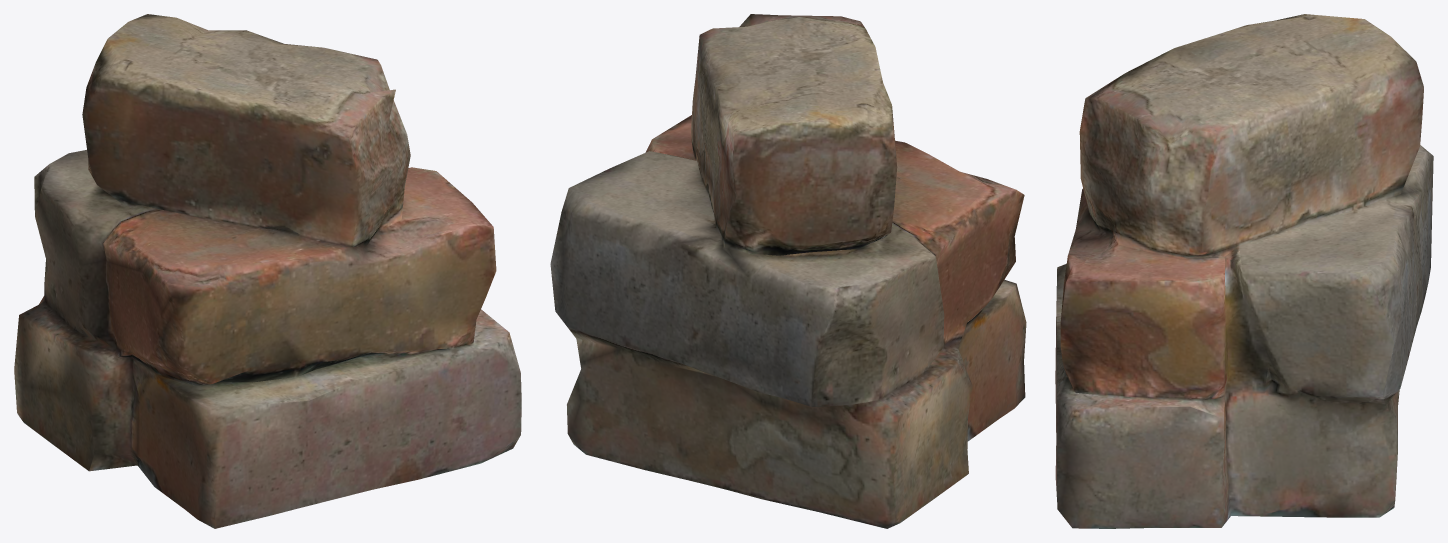
The model's file is SM_Brick_01_01.fbx.
The picture shows the model from 3 angles, left to right: view 1: azimuth 30°, elevation 25°; view 2: azimuth 150°, elevation 25°; view 3: azimuth 270°, elevation 25°; orthographic projection. The views are drawn at different scales.
Parts seen in each view (by area): view 1: sm_Brick_01_01_LOD0; view 2: sm_Brick_01_01_LOD0; view 3: sm_Brick_01_01_LOD0.
Part boxes in pixels (x1,y1,x2,y2): sm_Brick_01_01_LOD0: (14, 14, 521, 528); sm_Brick_01_01_LOD0: (550, 14, 1026, 528); sm_Brick_01_01_LOD0: (1055, 14, 1433, 528).
Bounding box in the file's own units: 23.2 × 24.93 × 25.6.
